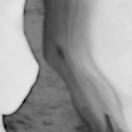broken_brick: (92, 0, 131, 131), (0, 0, 35, 111)
crack: (0, 0, 130, 131)
